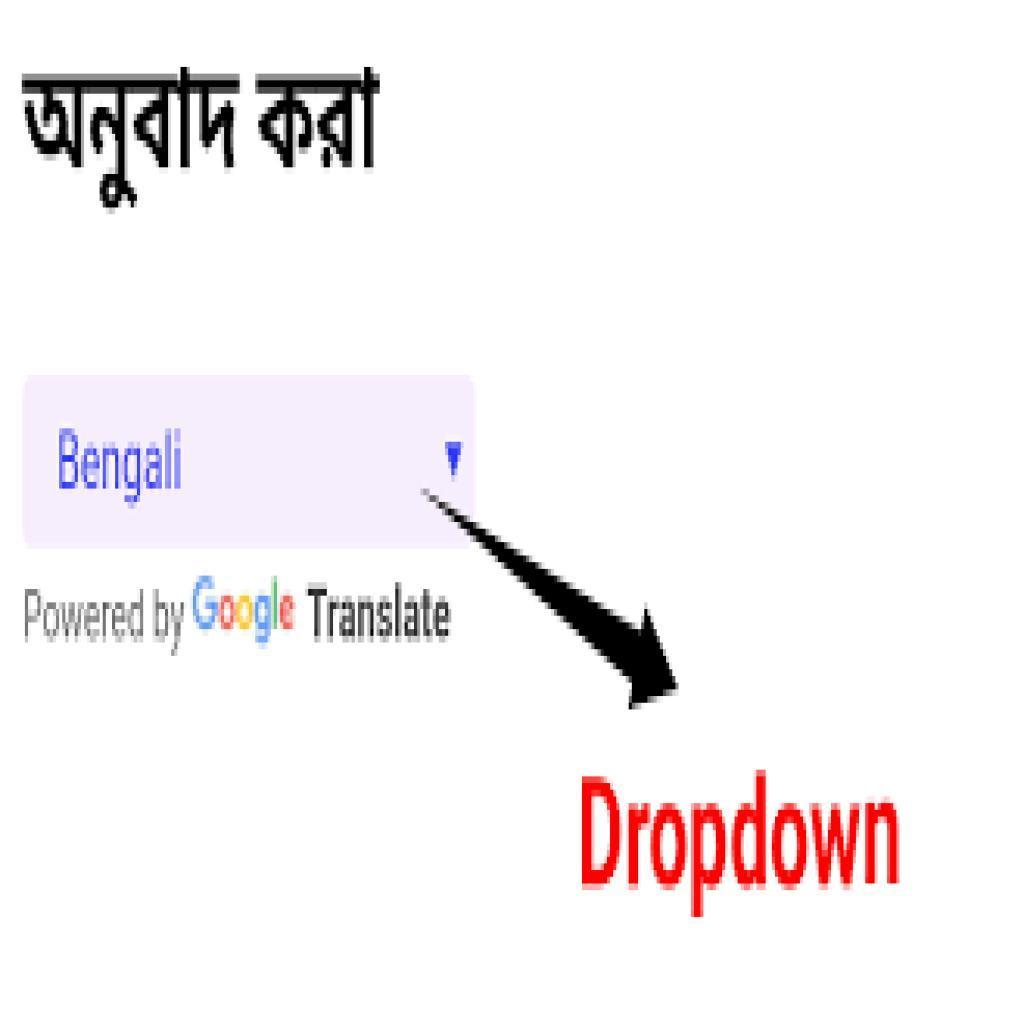dropdown: (21, 374, 474, 538)
